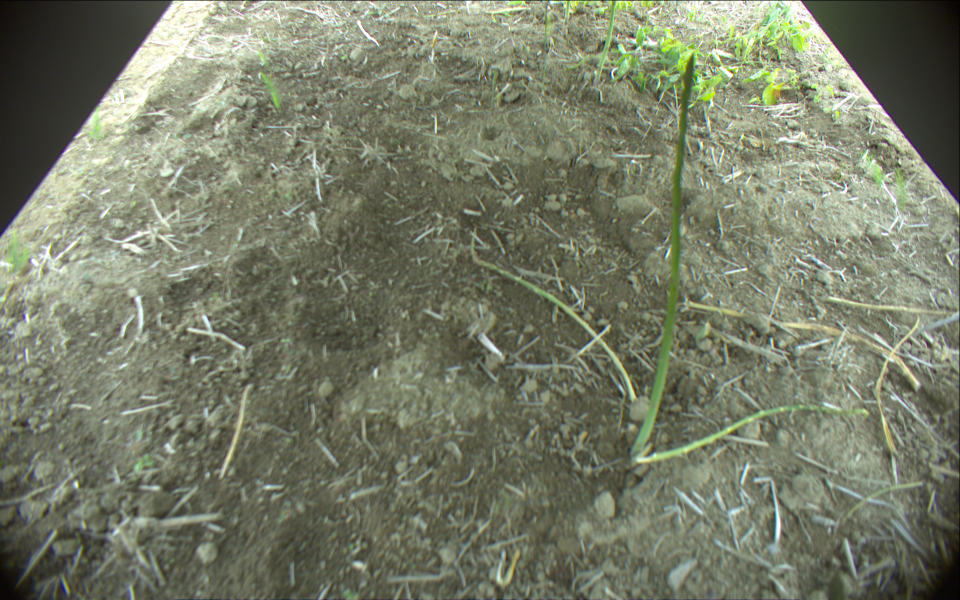aspa: (629, 53, 696, 459), (471, 250, 637, 401), (636, 403, 874, 462), (593, 1, 617, 82), (542, 1, 552, 43), (564, 1, 572, 27)
